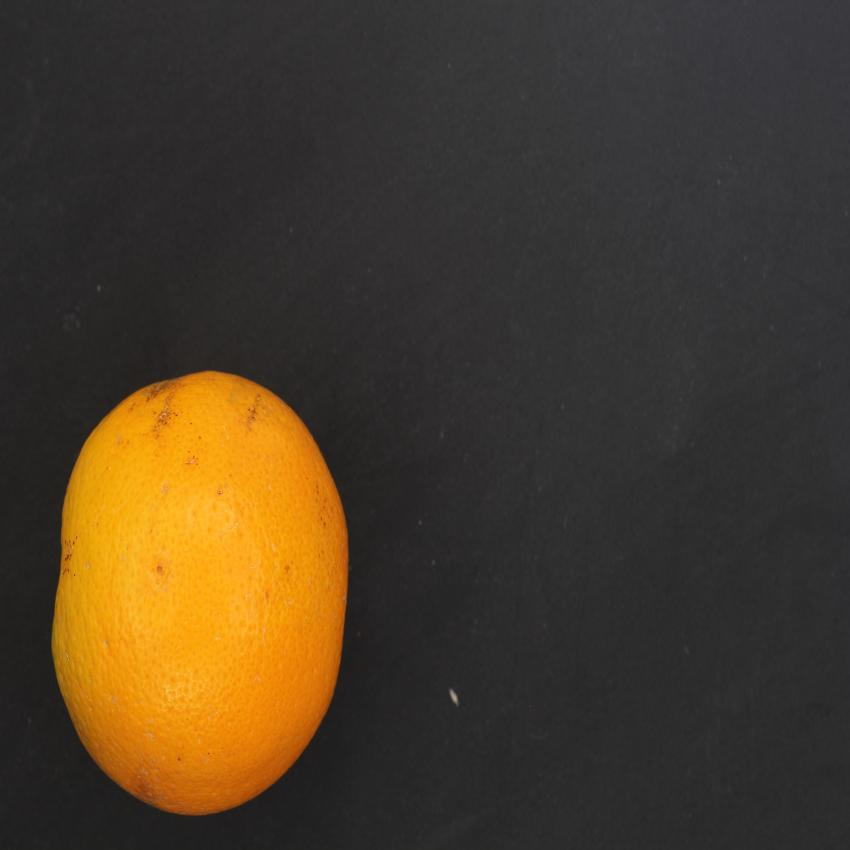Mal estado: (45, 353, 358, 840)
